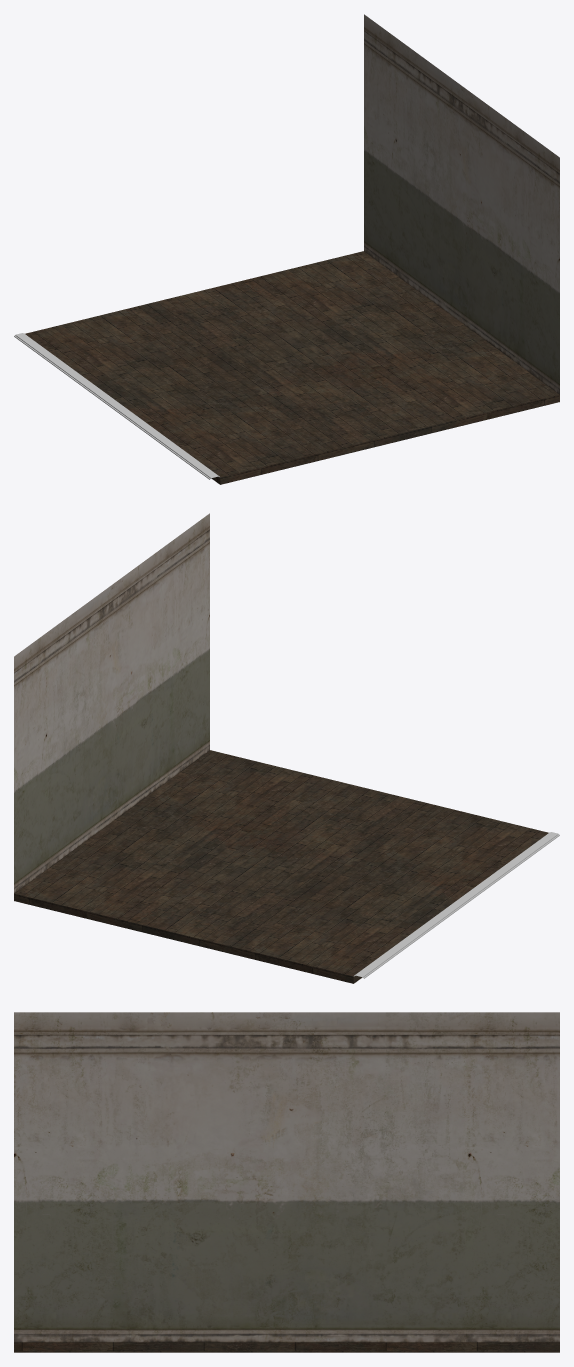
The model's file is hallway_T_6m.fbx.
3 views of the same model, one above another, from view 1: azimuth 30°, elevation 25°; view 2: azimuth 150°, elevation 25°; view 3: azimuth 270°, elevation 25° (orthographic). The views are drawn at different scales.
Parts seen in each view (by area): view 1: hallway_T_6m; view 2: hallway_T_6m; view 3: hallway_T_6m.
Part boxes in pixels (bbox=[...]): hallway_T_6m: bbox=[14, 14, 559, 484]; hallway_T_6m: bbox=[14, 513, 559, 983]; hallway_T_6m: bbox=[14, 1012, 559, 1352].
Bounding box in the file's own units: 618 × 412 × 600.
